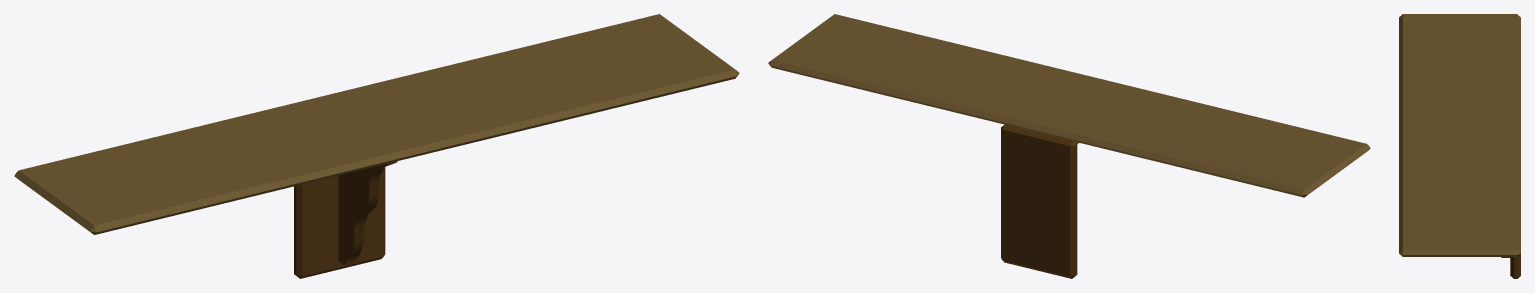
File: shelf.fbx
3 views of the same model, side by side, from view 1: azimuth 30°, elevation 25°; view 2: azimuth 150°, elevation 25°; view 3: azimuth 270°, elevation 25° (orthographic). The views are drawn at different scales.
Parts seen in each view (by area): view 1: shelf, bracket; view 2: shelf, bracket; view 3: shelf, bracket.
Part boxes in pixels (x1=…): shelf: x1=14, y1=14, x2=739, y2=234; bracket: x1=294, y1=161, x2=397, y2=278; shelf: x1=768, y1=14, x2=1370, y2=197; bracket: x1=1001, y1=124, x2=1078, y2=278; shelf: x1=1399, y1=14, x2=1520, y2=256; bracket: x1=1501, y1=254, x2=1520, y2=278.
Size of the model in its own units: 928 by 239 by 200.
